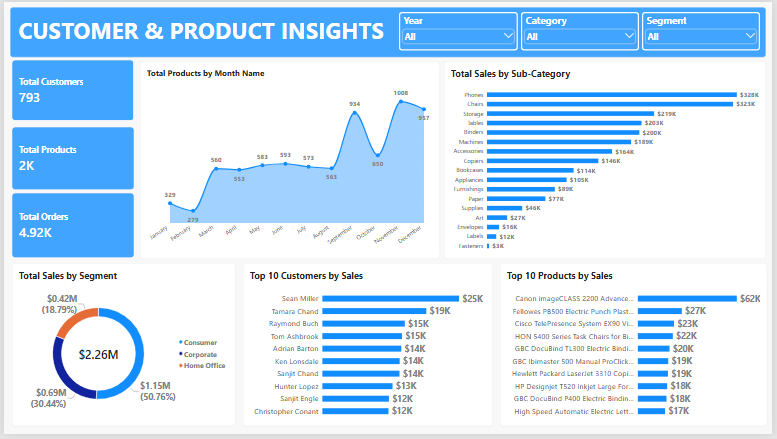

This screenshot's page, from the dashboard's own definition file:
{"tool":"powerbi","page":{"name":"Product Perf.","canvas":[1920,1080],"ordinal":1},"visuals":[{"type":"cardVisual","fields":{"Data":["Superstore_sales_data_analysis_.Total Customer"]},"box":[20.2,146.1,304.9,151.2],"z":0},{"type":"cardVisual","fields":{"Data":["Superstore_sales_data_analysis_.Total Products"]},"box":[20.2,312.4,305,157.5],"z":1000},{"type":"cardVisual","fields":{"Data":["Superstore_sales_data_analysis_.Total Order"]},"box":[20.2,478.7,305,162.5],"z":2000},{"type":"barChart","title":"Top 10 Customers by Sales","fields":{"Category":["Superstore_sales_data_analysis_.Customer Name"],"Y":["Superstore_sales_data_analysis_.Total Sales"]},"box":[597.2,652.9,624.9,408.2],"z":3000},{"type":"barChart","fields":{"Category":["Superstore_sales_data_analysis_.Sub-Category"],"Y":["Superstore_sales_data_analysis_.Total Sales"]},"box":[1100.2,146.6,805,495],"z":4000},{"type":"areaChart","fields":{"Category":["Date.Month Name"],"Y":["Superstore_sales_data_analysis_.Total Products"]},"box":[340.2,146.6,750,495],"z":5000},{"type":"clusteredBarChart","title":"Top 10 Products by Sales","fields":{"Category":["Superstore_sales_data_analysis_.Product Name"],"Y":["Superstore_sales_data_analysis_.Top 10 Products"]},"box":[1239.7,652.9,667.7,408.2],"z":6000},{"type":"donutChart","fields":{"Category":["Superstore_sales_data_analysis_.Segment"],"Y":["Superstore_sales_data_analysis_.Total Sales"]},"box":[20.2,652.9,559.4,408.2],"z":7000},{"type":"textbox","box":[15.1,12.6,1889.8,126],"z":8000},{"type":"slicer","fields":{"Values":["Date.Year"]},"box":[987.7,25.5,297.3,95.7],"z":9000},{"type":"slicer","fields":{"Values":["Superstore_sales_data_analysis_.Category"]},"box":[1292.6,25.5,294.8,95.7],"z":10000},{"type":"slicer","fields":{"Values":["Superstore_sales_data_analysis_.Segment"]},"box":[1595,25.5,294.8,95.7],"z":11000}]}

Visuals, with their boxes in screenshot pixels (x1, y1, x2, y2), scaled from the page's 1920x1080 canvas onto the 777x439 screenshot:
cardVisual - Superstore_sales_data_analysis_.Total Customer: l=8, t=59, r=132, b=121
cardVisual - Superstore_sales_data_analysis_.Total Products: l=8, t=127, r=132, b=191
cardVisual - Superstore_sales_data_analysis_.Total Order: l=8, t=195, r=132, b=261
"Top 10 Customers by Sales" barChart: l=242, t=265, r=495, b=431
barChart - Superstore_sales_data_analysis_.Sub-Category x Superstore_sales_data_analysis_.Total Sales: l=445, t=60, r=771, b=261
areaChart - Date.Month Name x Superstore_sales_data_analysis_.Total Products: l=138, t=60, r=441, b=261
"Top 10 Products by Sales" clusteredBarChart: l=502, t=265, r=772, b=431
donutChart - Superstore_sales_data_analysis_.Segment x Superstore_sales_data_analysis_.Total Sales: l=8, t=265, r=235, b=431
textbox: l=6, t=5, r=771, b=56
slicer - Date.Year: l=400, t=10, r=520, b=49
slicer - Superstore_sales_data_analysis_.Category: l=523, t=10, r=642, b=49
slicer - Superstore_sales_data_analysis_.Segment: l=645, t=10, r=765, b=49
